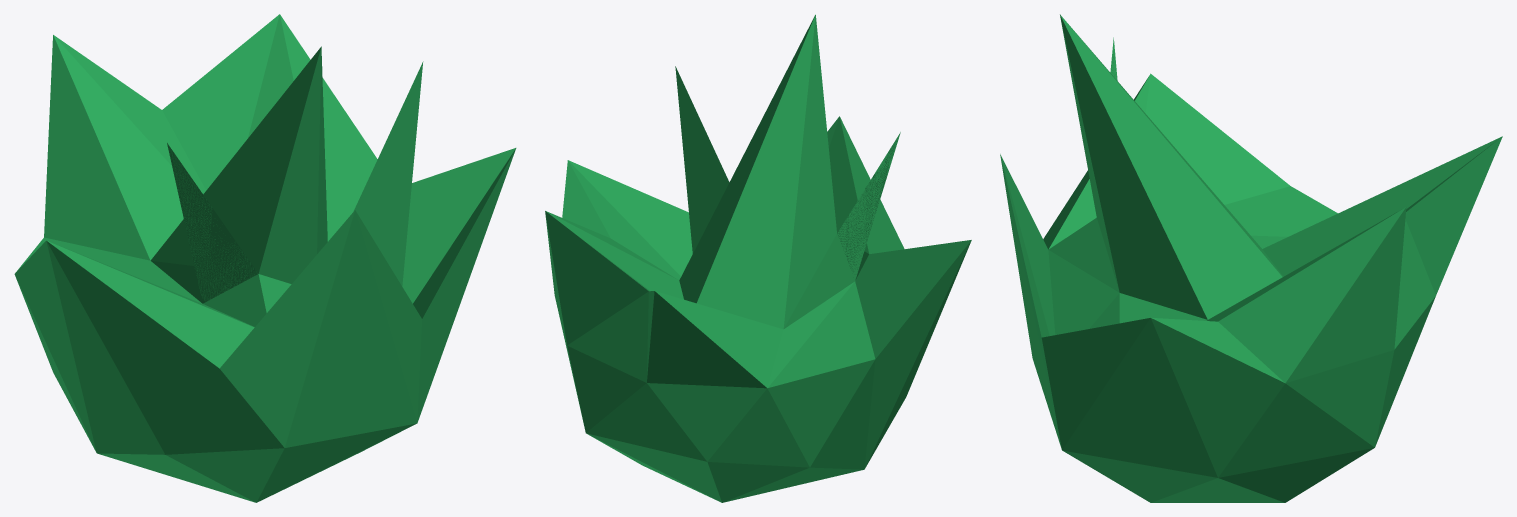
File: bush11.fbx
3 renders of one model, left to right at view 1: azimuth 30°, elevation 25°; view 2: azimuth 150°, elevation 25°; view 3: azimuth 270°, elevation 25°, orthographic. The views are drawn at different scales.
Visible parts, largest first — view 1: bush11; view 2: bush11; view 3: bush11.
Boxes of the visible parts, <box> form: bush11: <box>14,14,516,502</box>; bush11: <box>545,14,971,502</box>; bush11: <box>1000,14,1502,502</box>.
Size of the model in its own units: 87.63 by 87.36 by 83.52.
